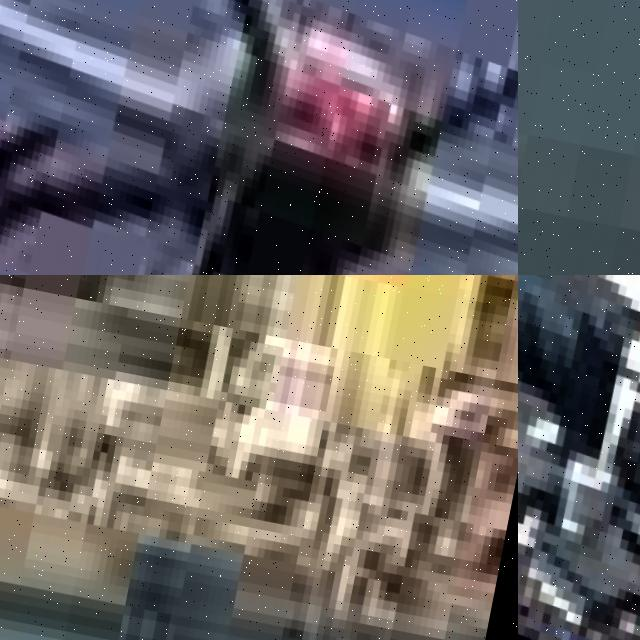0: (0, 0, 518, 275)
drone: (518, 275, 640, 640)
